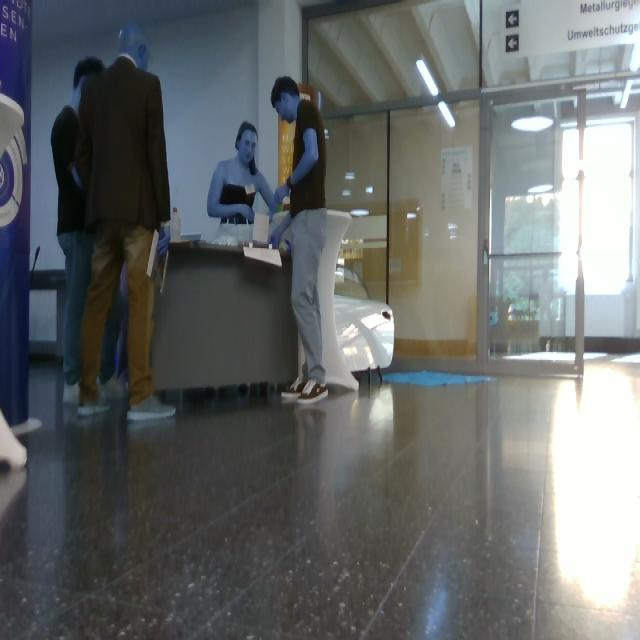banner: (1, 1, 40, 468)
desk: (152, 244, 299, 392)
light bulb: (512, 102, 555, 133), (417, 60, 438, 96), (439, 101, 455, 128)
person: (75, 26, 175, 420), (271, 77, 327, 400), (52, 58, 105, 389), (208, 122, 282, 244), (101, 294, 120, 381)
table: (476, 73, 640, 377), (319, 212, 358, 390)
tiled floor: (1, 361, 640, 640)
